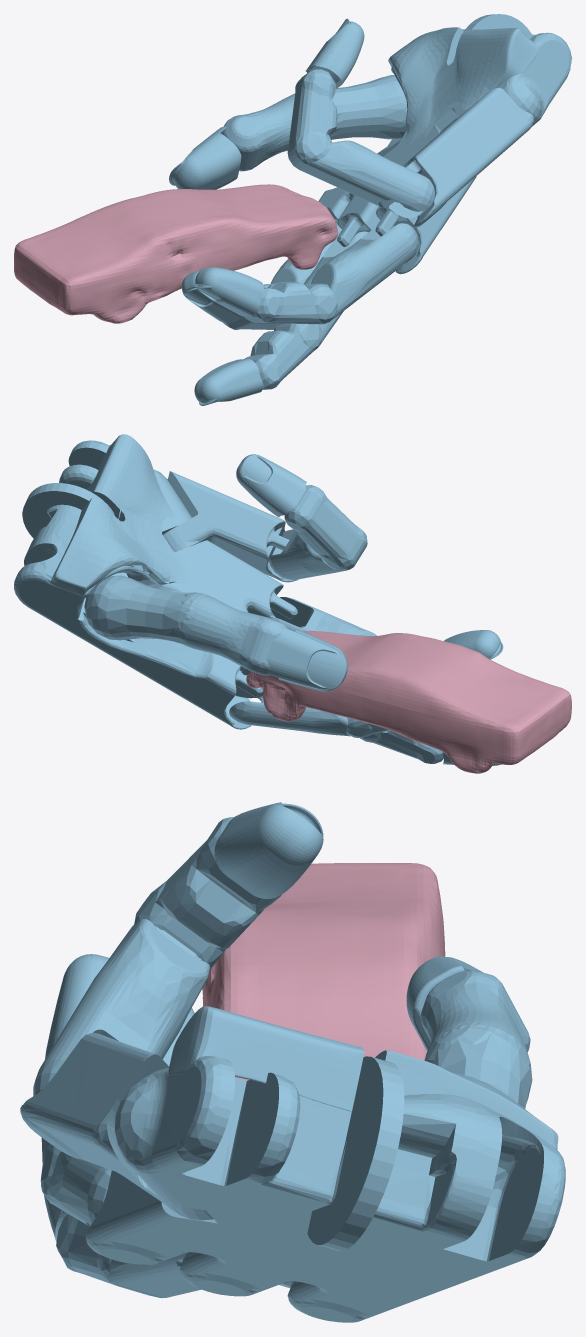
3 renders of one model, top to bottom at view 1: azimuth 30°, elevation 25°; view 2: azimuth 150°, elevation 25°; view 3: azimuth 270°, elevation 25°, orthographic. The views are drawn at different scales.
Visible parts, largest first — view 1: hand, world; view 2: hand, world; view 3: hand, world.
Boxes of the visible parts, x1,y1,x2,y2 form: hand: (169,14,571,405); world: (14,184,338,323); hand: (14,434,503,765); world: (246,631,571,773); hand: (20,802,565,1322); world: (202,863,445,1080).
Size of the model in its own units: 0.2346 by 0.134 by 0.1087.
